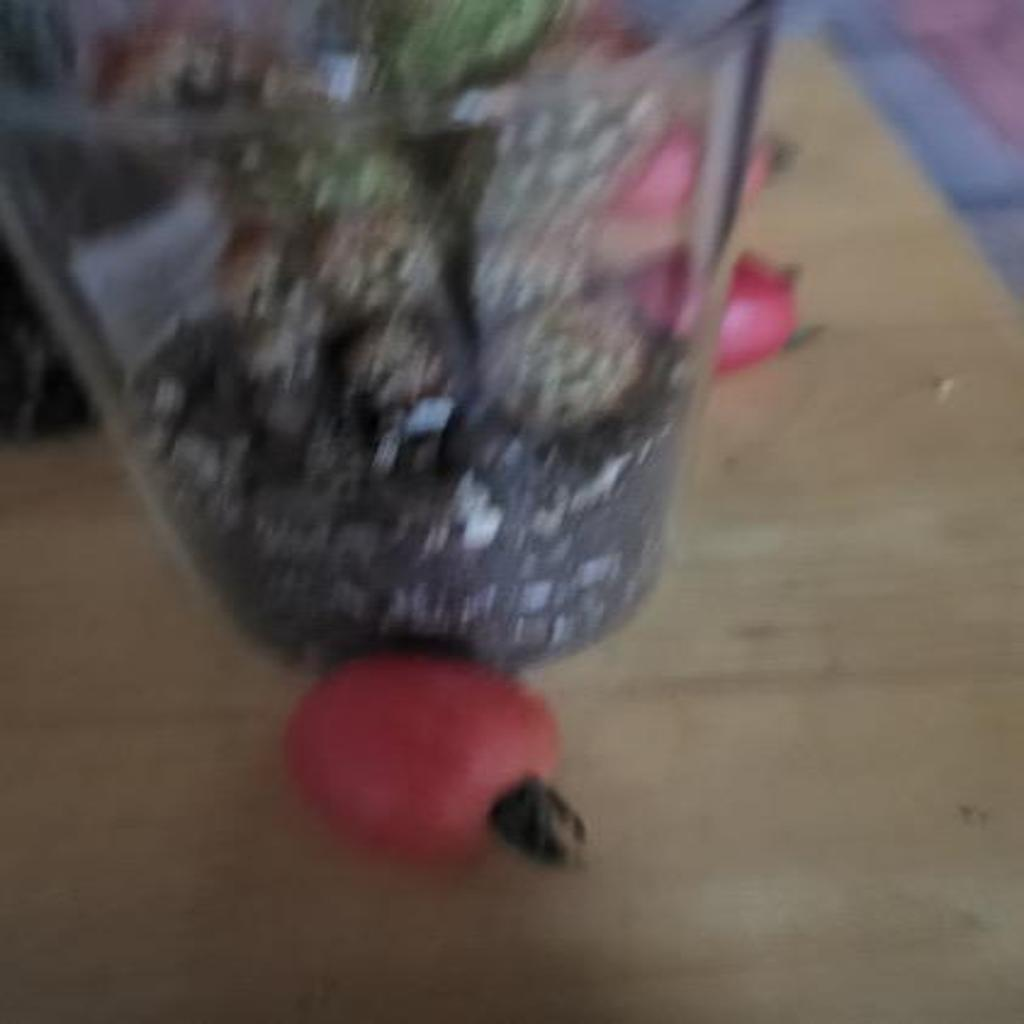tomato: (283, 634, 581, 865)
